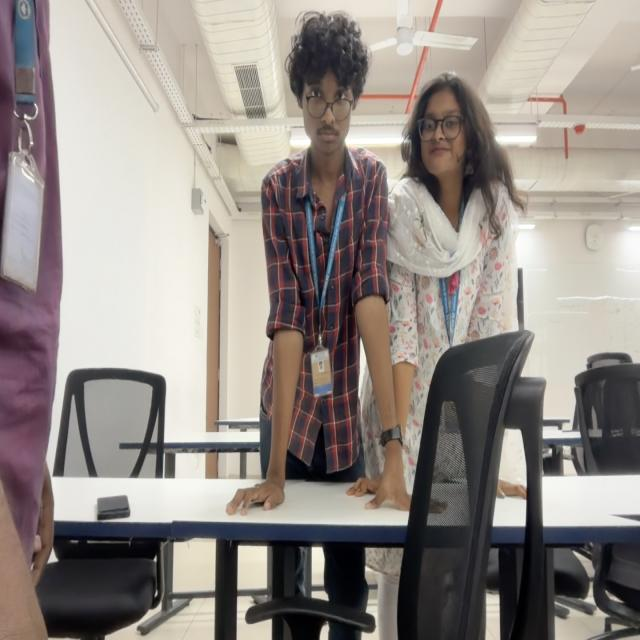darshan: (289, 18, 366, 150)
